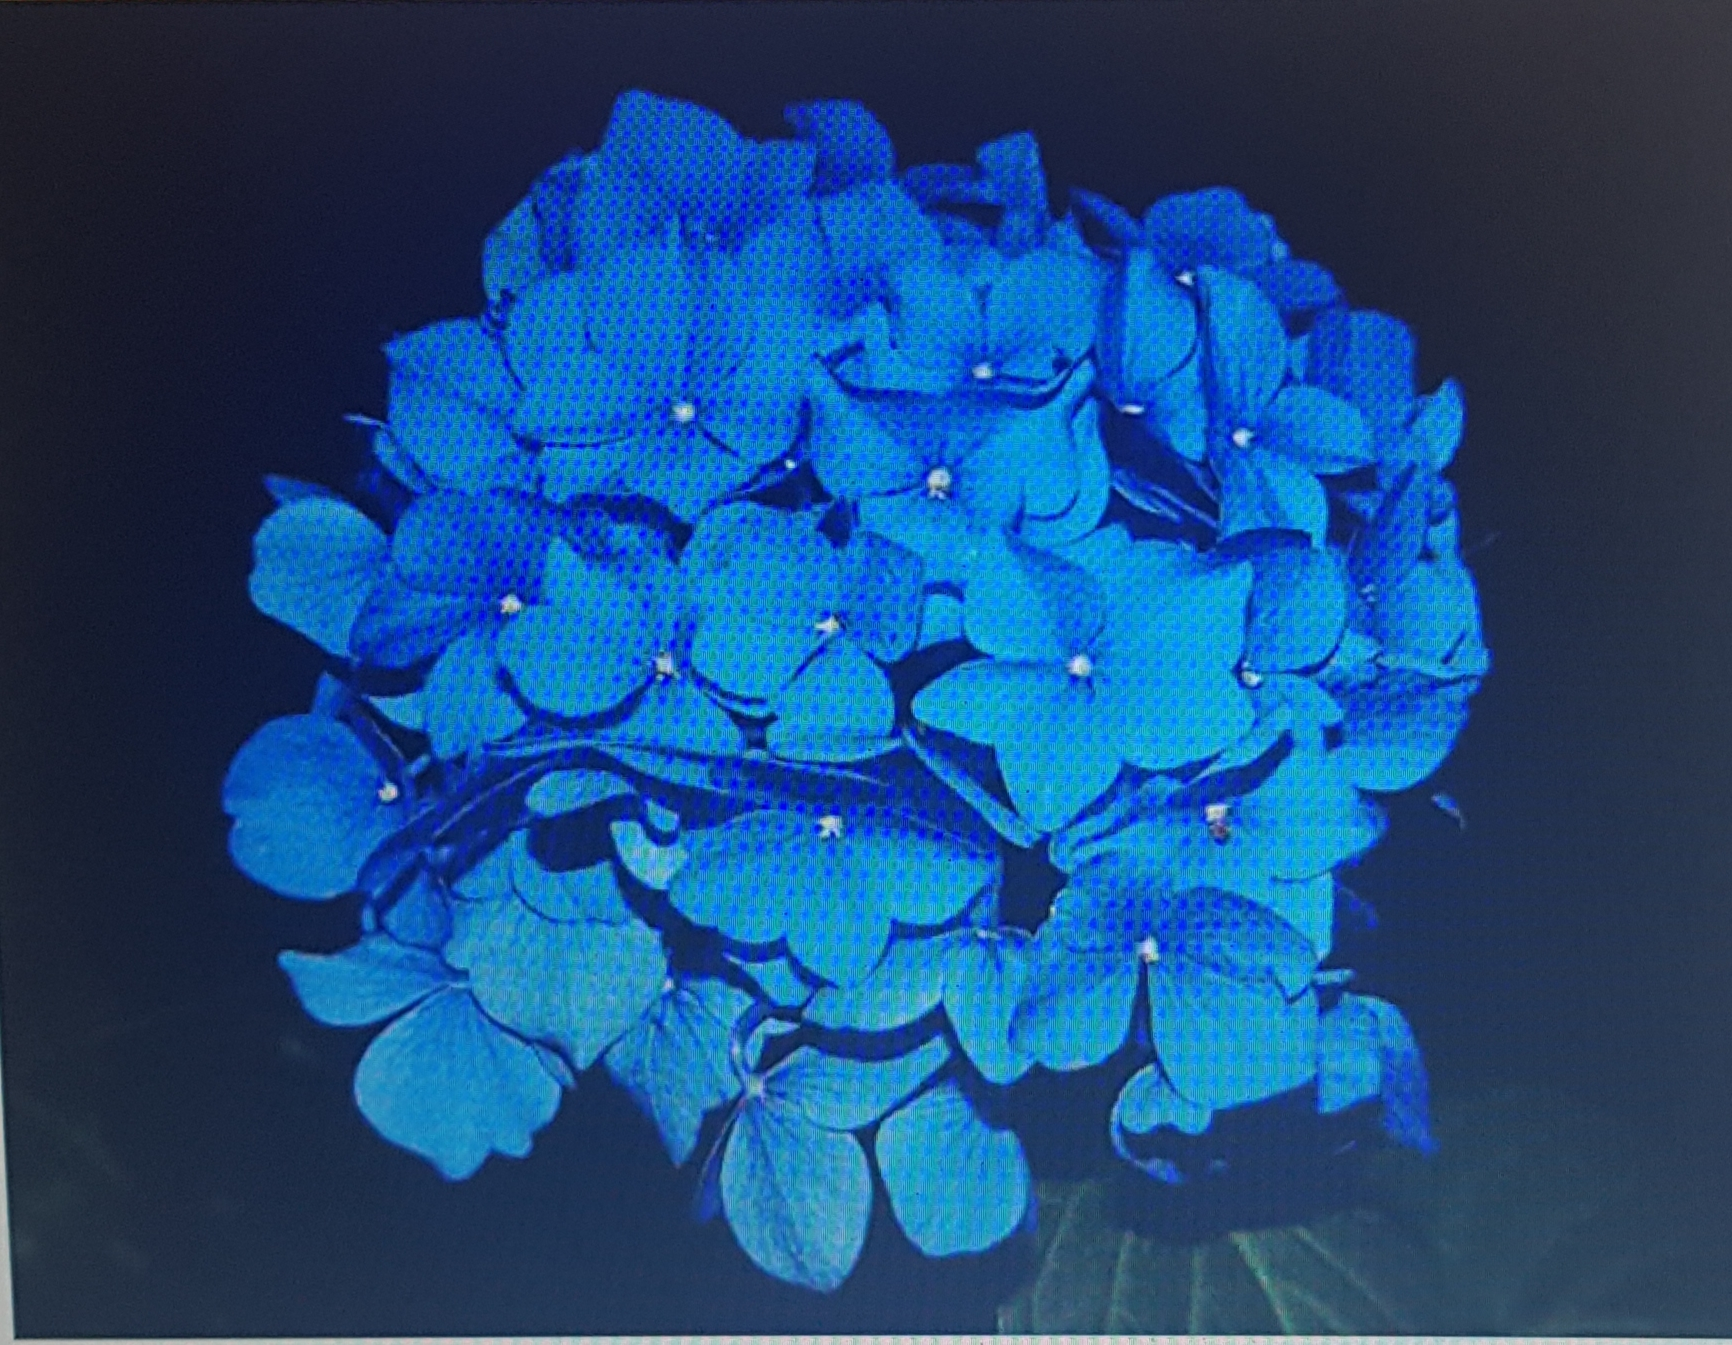Blue: (236, 91, 1493, 1299)
